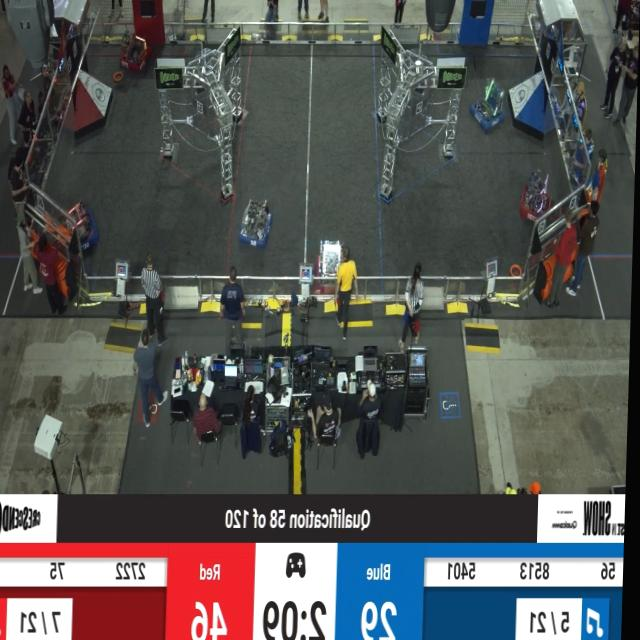Robot: (157, 24, 251, 206), (54, 192, 107, 266), (309, 228, 352, 301), (112, 17, 155, 89), (470, 76, 505, 135), (239, 196, 276, 251), (519, 169, 552, 227)
